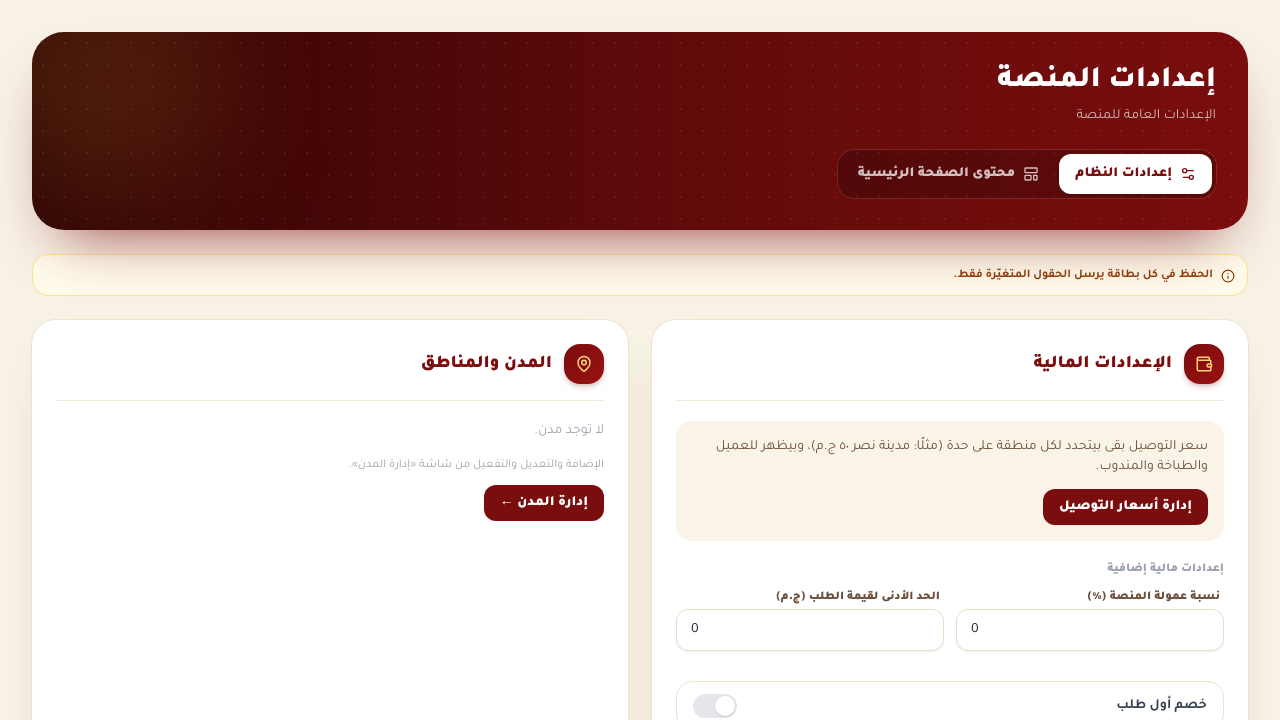
Test: Platform settings — the §6 system settings cards › a valid numeric change enables the shared save and PUTs only that key
Replace the text in the field labelled "نسبة عمولة المنصة (%)" with "12" at (1090, 630), box [956, 609, 1224, 651]
(page scrolled)
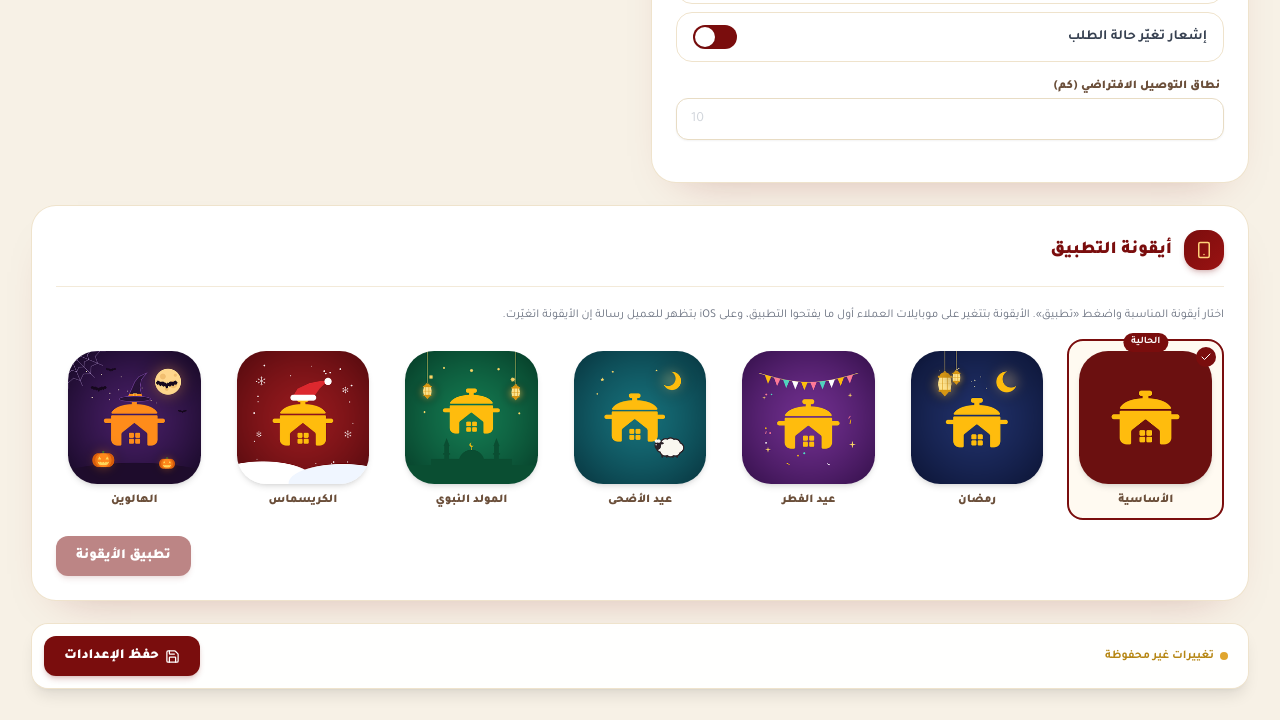
Check: the button "حفظ الإعدادات" is enabled
Click the button "حفظ الإعدادات" at (122, 656), box [44, 636, 200, 676]
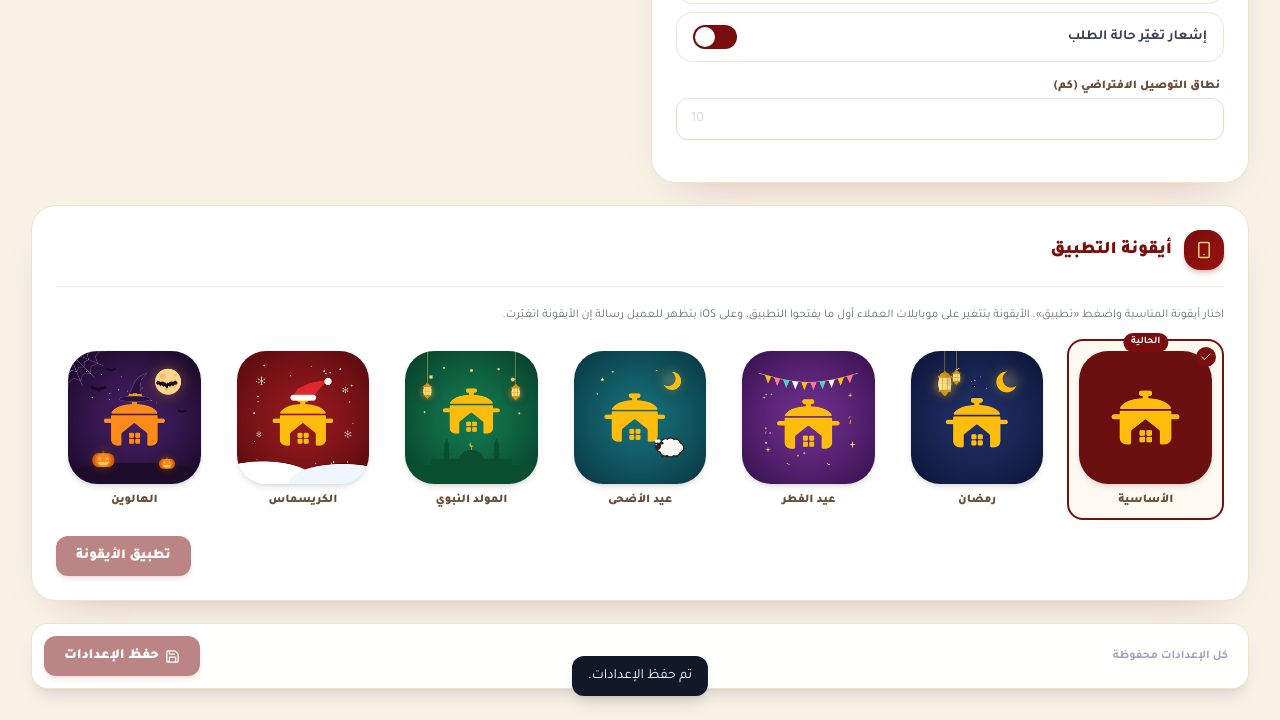
Check: the button "حفظ الإعدادات" is disabled, box [44, 636, 200, 676]
